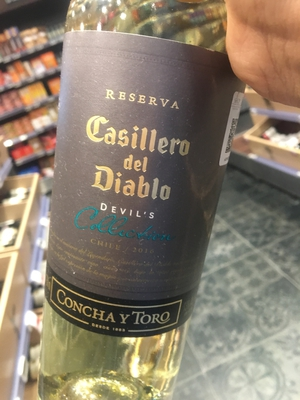casillero del diablo devils collection verde: (33, 12, 239, 400)
